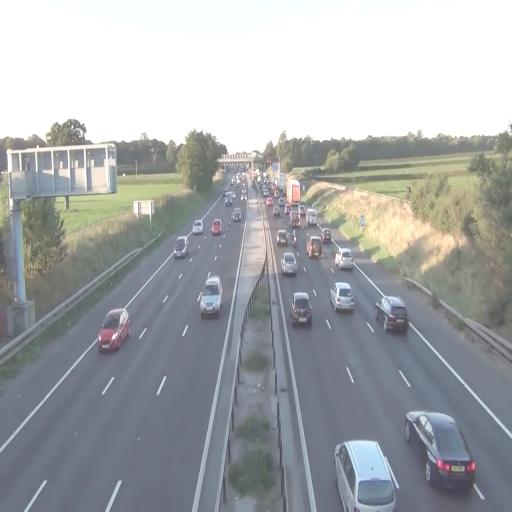vehicle: (406, 410, 476, 494), (334, 439, 400, 512), (97, 308, 130, 354), (375, 294, 409, 335), (199, 274, 223, 318), (290, 290, 312, 327), (330, 280, 355, 312), (285, 175, 301, 207), (280, 250, 298, 276), (173, 236, 189, 260), (338, 250, 354, 271), (276, 226, 290, 247), (332, 245, 342, 268), (211, 218, 222, 237), (192, 218, 204, 234), (232, 208, 241, 222)
